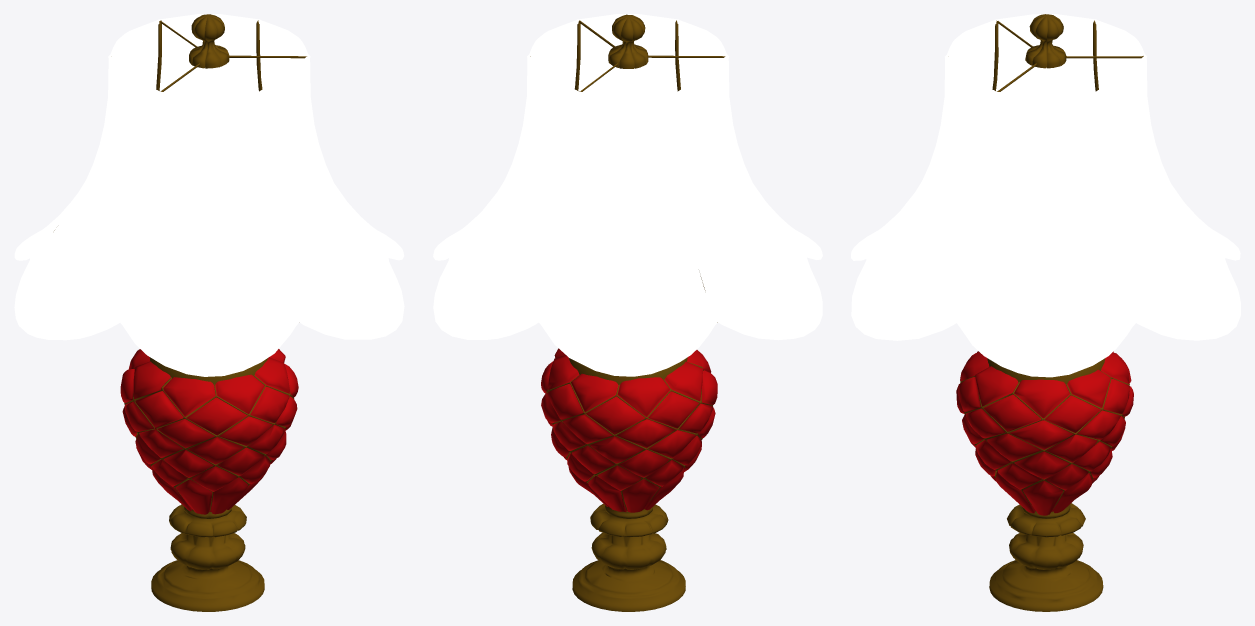
The model's file is emission_gltf_test.glb.
3 views of the same model, side by side, from view 1: azimuth 30°, elevation 25°; view 2: azimuth 150°, elevation 25°; view 3: azimuth 270°, elevation 25° (orthographic).
Parts seen in each view (by area): view 1: TableLamp.001; view 2: TableLamp.001; view 3: TableLamp.001.
Boxes of the visible parts, <box> form: TableLamp.001: <box>14,14,404,611</box>; TableLamp.001: <box>433,14,822,611</box>; TableLamp.001: <box>851,14,1240,611</box>.
Bounding box in the file's own units: 0.4309 × 0.6401 × 0.3944.
